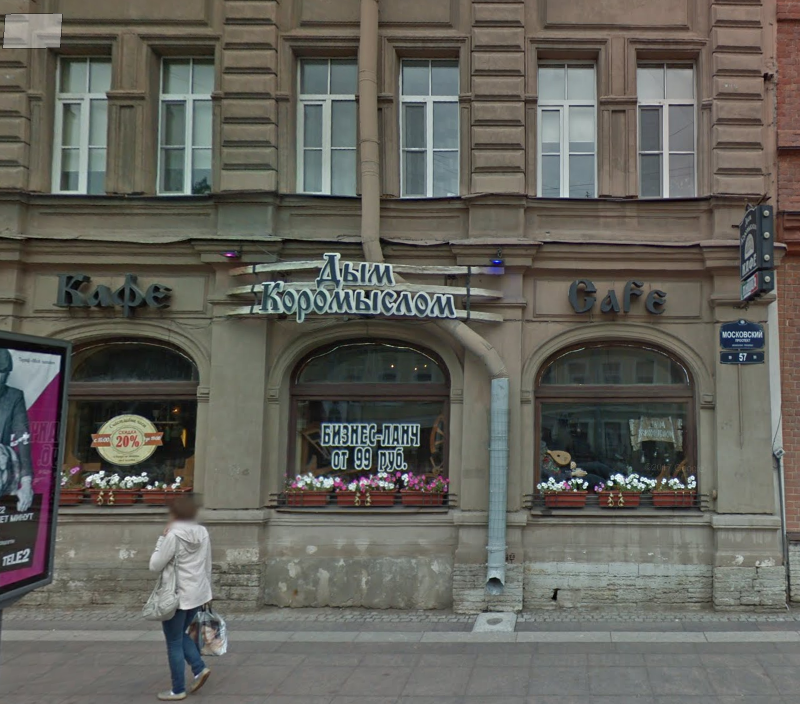cantilever: (721, 194, 781, 311)
signboard: (211, 248, 509, 333), (40, 259, 189, 319), (552, 269, 679, 325)
window: (282, 343, 450, 506), (540, 336, 698, 482), (68, 341, 198, 503), (396, 54, 463, 197), (635, 61, 704, 199), (534, 58, 599, 201), (292, 55, 357, 195), (50, 51, 108, 192), (158, 56, 213, 195)
